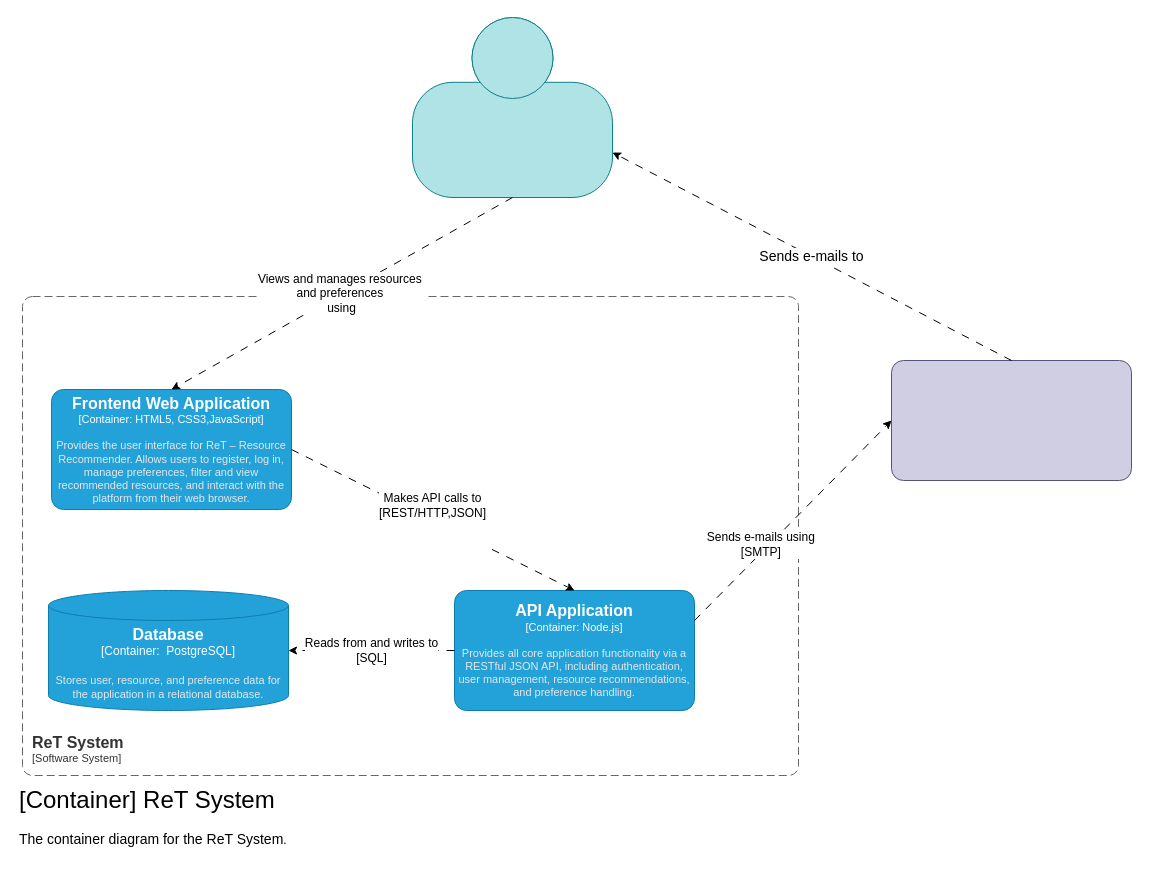
Some shapes in this 1149 by 887 pixel diagram are drawn without their labels. Each missing label, with the centre of its shape:
"E-Mail System [Software system] Gmail SMTP service" goes at point 1011,420.
"USER [Normal/Admin user] Person that uses ReT – Resource Recommende" goes at point 512,107.
